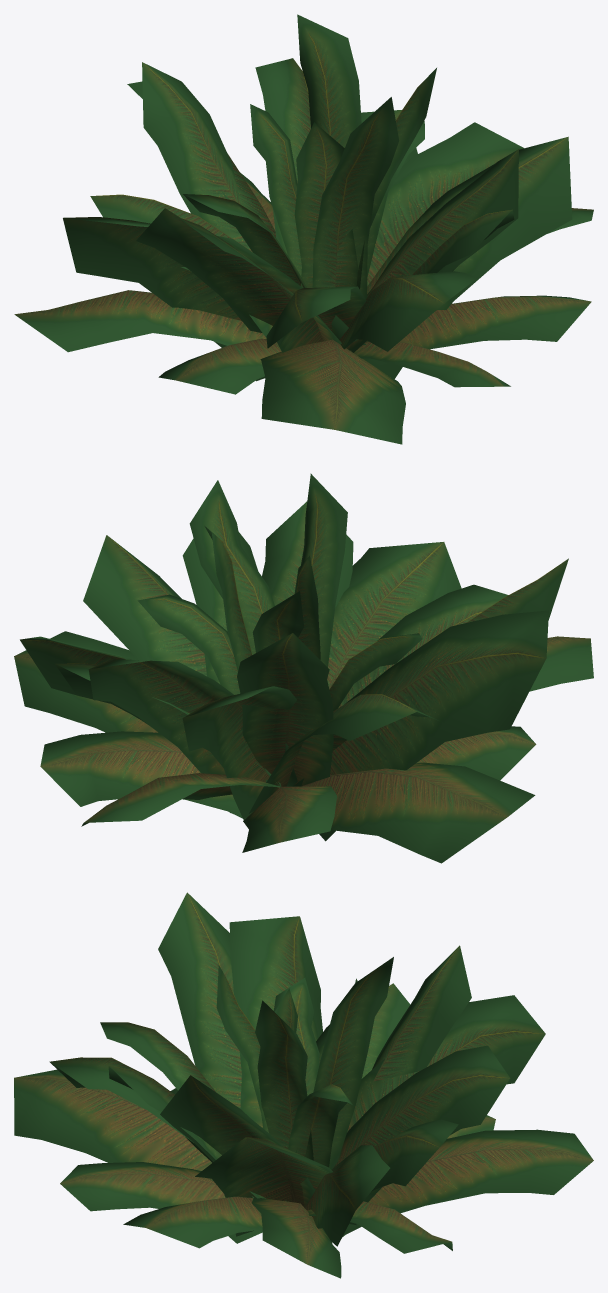
The model's file is Fern_1_L1.fbx.
The picture shows the model from 3 angles, top to bottom: view 1: azimuth 30°, elevation 25°; view 2: azimuth 150°, elevation 25°; view 3: azimuth 270°, elevation 25°; orthographic projection. The views are drawn at different scales.
Visible parts, largest first — view 1: polySurface2; view 2: polySurface2; view 3: polySurface2.
Part boxes in pixels (left/top/right/bottom): polySurface2: left=14, top=14, right=593, bottom=444; polySurface2: left=14, top=473, right=593, bottom=863; polySurface2: left=14, top=892, right=593, bottom=1278.
Size of the model in its own units: 355 by 202 by 366.
